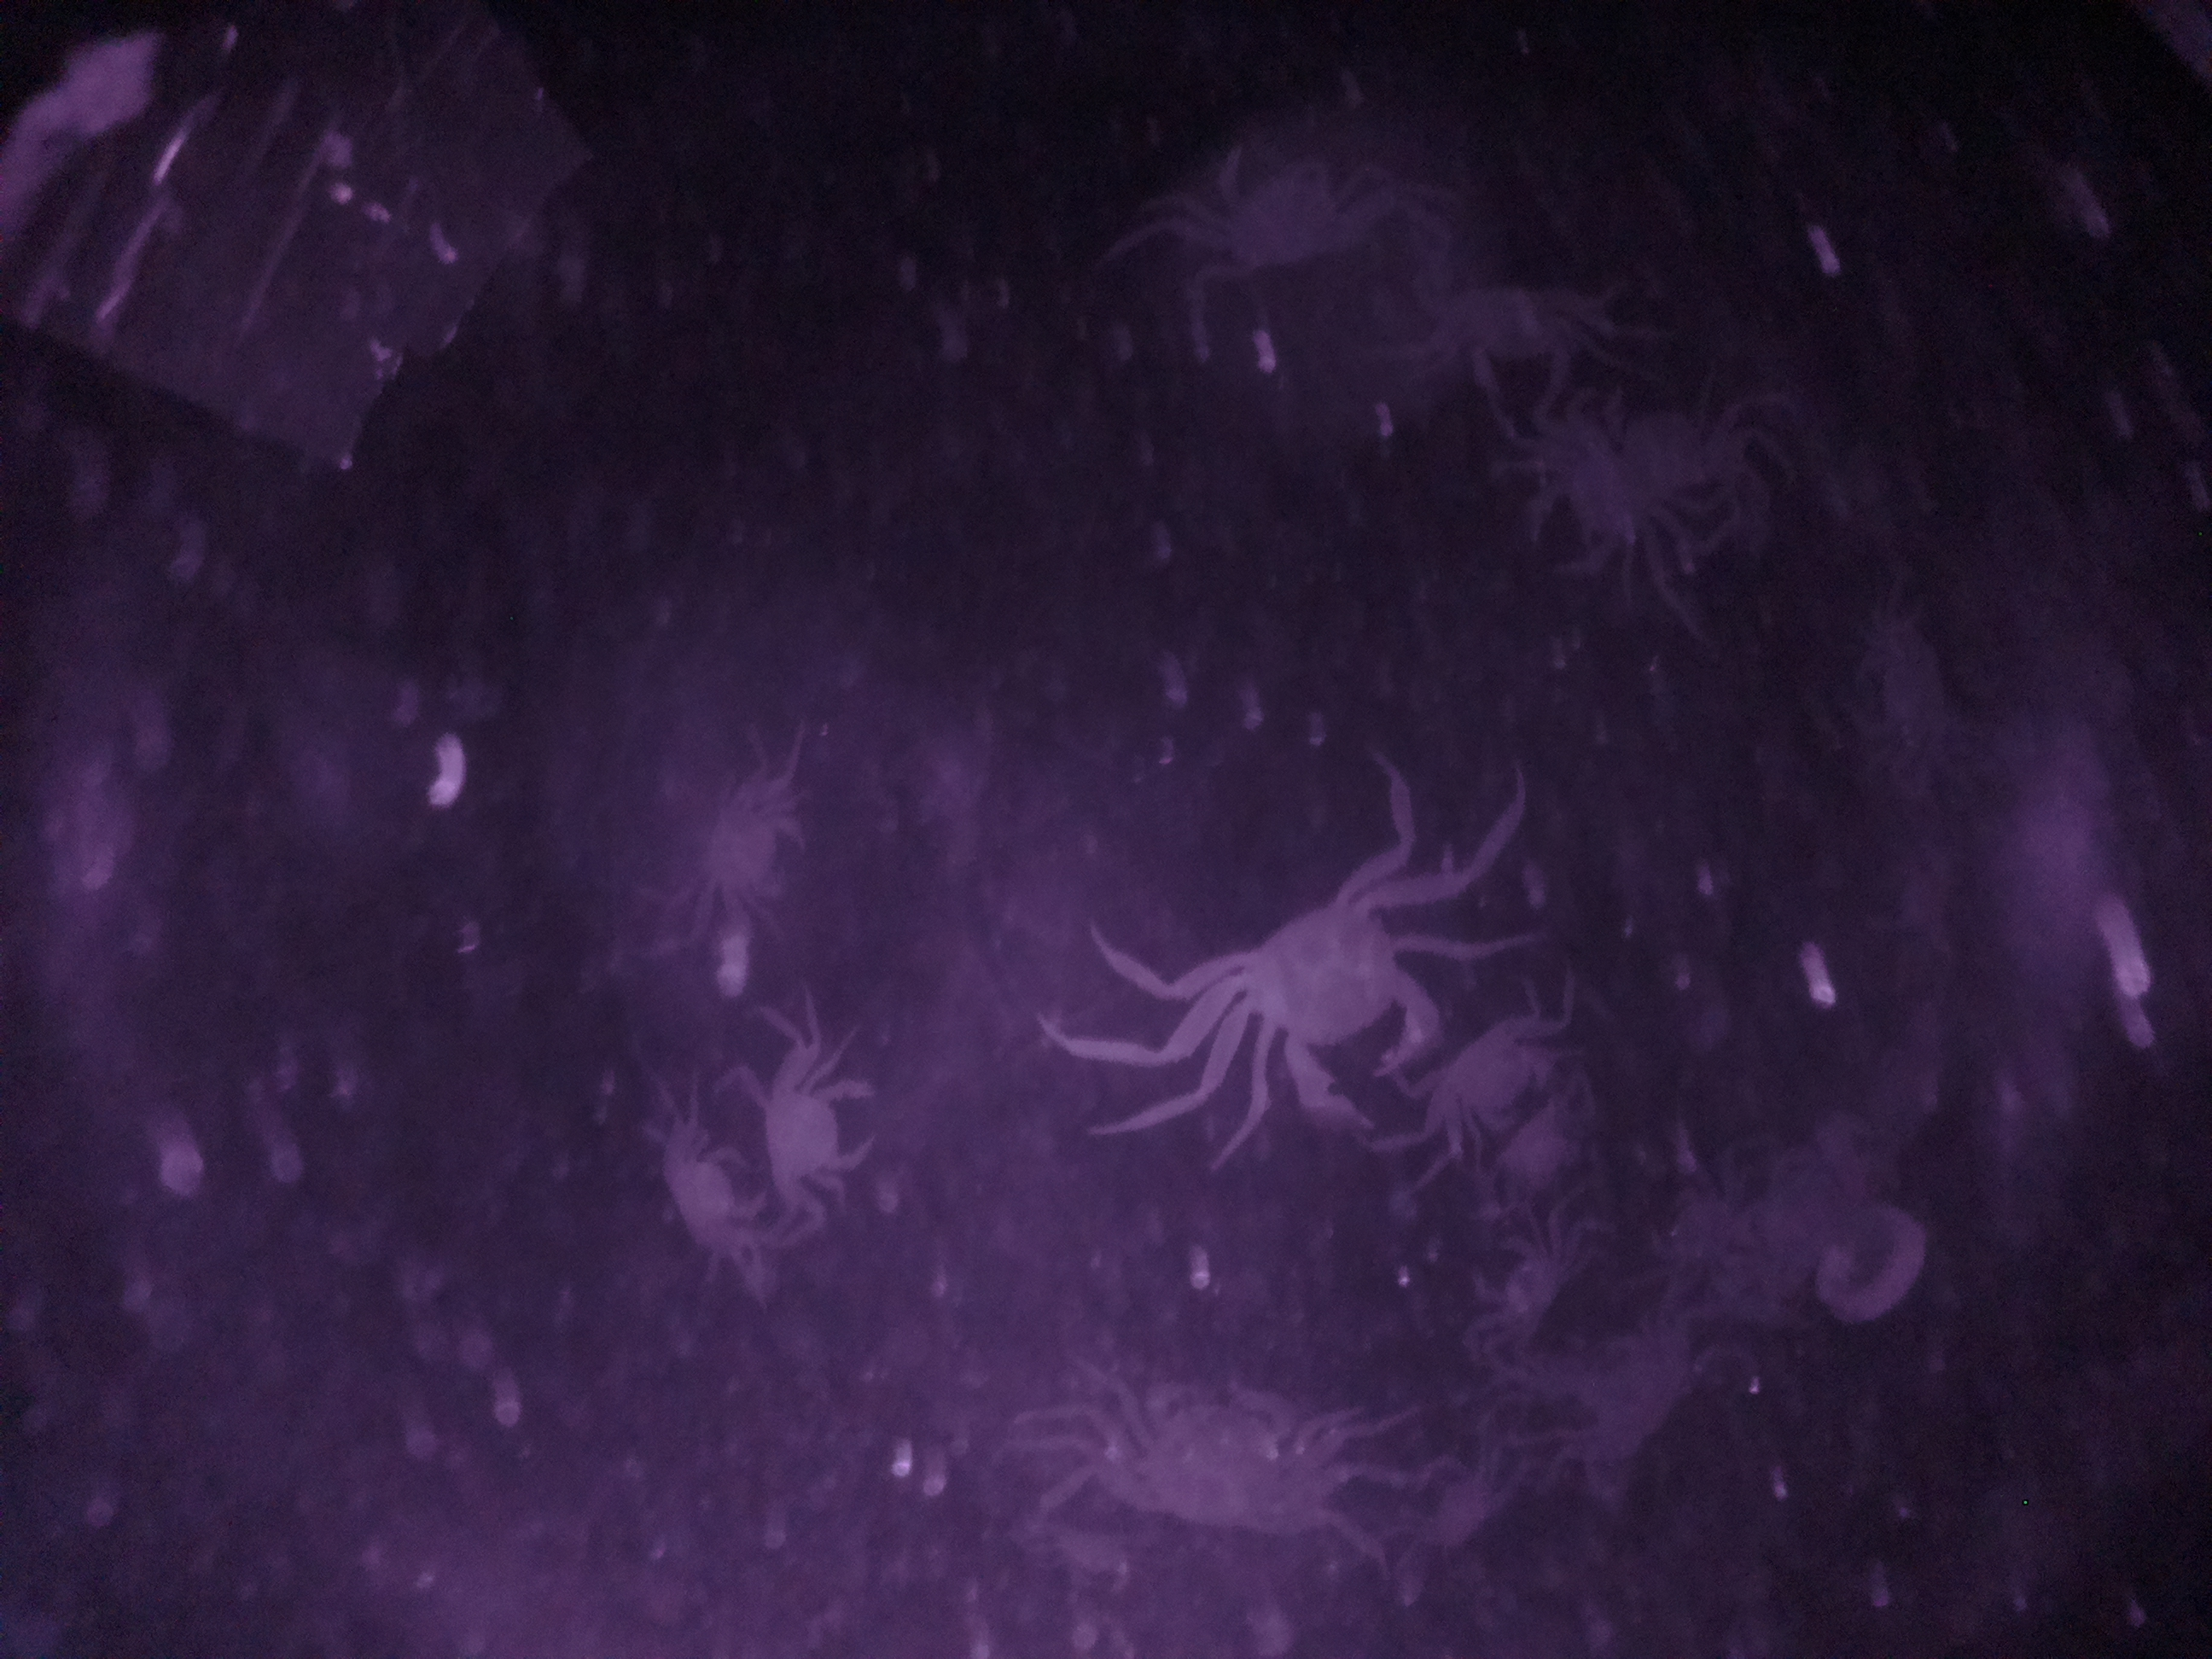Crab: (1172, 856, 1468, 1143), (742, 1040, 897, 1218), (1460, 1182, 1594, 1368), (1435, 990, 1571, 1166), (688, 755, 817, 924)
